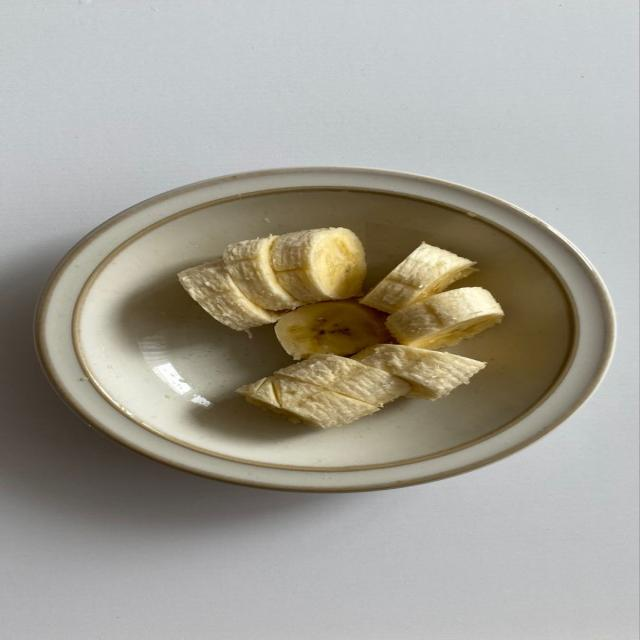banana slice: (361, 243, 475, 313), (237, 375, 379, 428), (353, 344, 485, 399), (179, 259, 279, 330), (387, 287, 503, 348), (272, 228, 365, 302), (276, 355, 409, 406), (275, 301, 388, 359), (223, 237, 303, 309)
